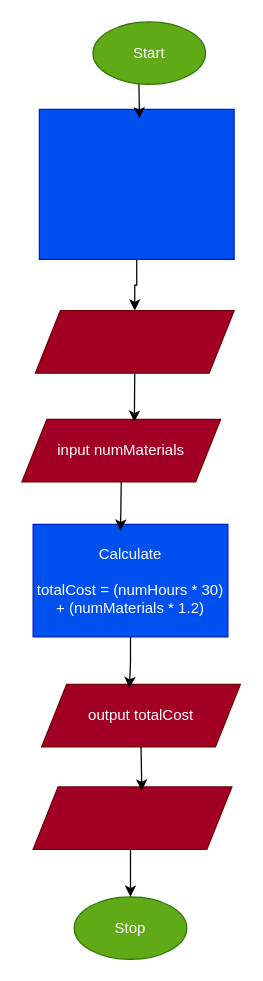
Some shapes in this 263 by 981 pixel diagram are drawn without their labels. Here are the shapes that lost their labels. From the top down, the centre of each, then its label:
point 136,183: Declarations num numHours num numMaterials num totalCost
point 134,341: input numHours
point 132,817: output "End of program"
